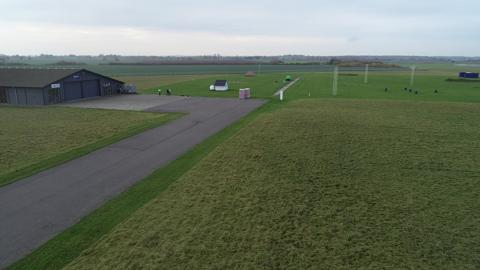RockwoolPallet: (243, 88, 250, 98)
